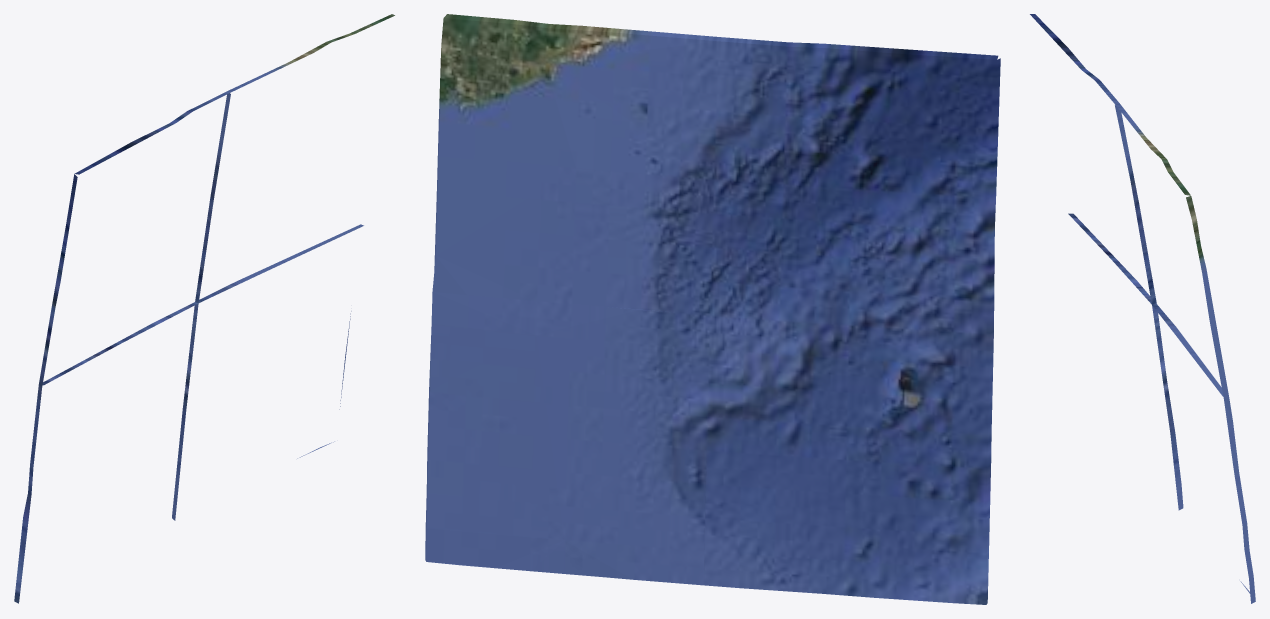
3 views of the same model, side by side, from view 1: azimuth 30°, elevation 25°; view 2: azimuth 150°, elevation 25°; view 3: azimuth 270°, elevation 25° (orthographic). The views are drawn at different scales.
Size of the model in its own units: 620160 by 623752 by 305891.
1 material, 1 textured.
